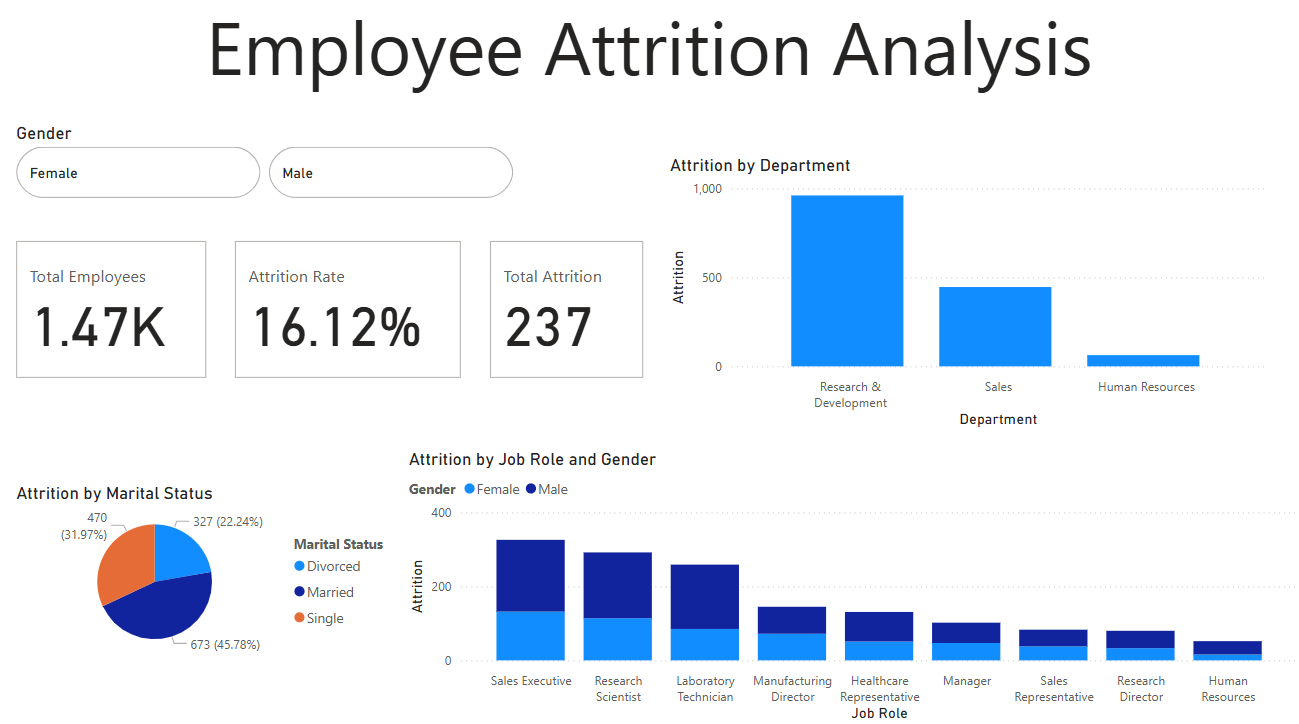

The page's visual inventory and layout, read from the dashboard file:
{"tool":"powerbi","page":{"name":"Employee Attrition Overview – IBM HR Analytics","canvas":[1280,720],"ordinal":0},"visuals":[{"type":"columnChart","title":"Attrition by Department","fields":{"Category":["WA_Fn-UseC_-HR-Employee-Attrition.Department"],"Y":["CountNonNull(WA_Fn-UseC_-HR-Employee-Attrition.Attrition)"]},"box":[656,160,592,272],"z":0},{"type":"cardVisual","fields":{"Data":["WA_Fn-UseC_-HR-Employee-Attrition.Total Attrition"]},"box":[479.5,240,160.5,144],"z":0,"group":"g4"},{"type":"cardVisual","fields":{"Data":["WA_Fn-UseC_-HR-Employee-Attrition.Attrition Rate"]},"box":[229.9,240,231.8,144],"z":1000,"group":"g4"},{"type":"columnChart","title":"Attrition by Job Role and Gender","fields":{"Category":["WA_Fn-UseC_-HR-Employee-Attrition.JobRole"],"Y":["CountNonNull(WA_Fn-UseC_-HR-Employee-Attrition.Attrition)"],"Series":["WA_Fn-UseC_-HR-Employee-Attrition.Gender"]},"box":[416,448,864,272],"z":1000},{"type":"cardVisual","fields":{"Data":["WA_Fn-UseC_-HR-Employee-Attrition.Total Employees"]},"box":[16,240,196.1,144],"z":2000,"group":"g4"},{"type":"pieChart","title":"Attrition by Marital Status","fields":{"Y":["CountNonNull(WA_Fn-UseC_-HR-Employee-Attrition.Attrition)"],"Series":["WA_Fn-UseC_-HR-Employee-Attrition.MaritalStatus"]},"box":[16,544,368,176],"z":2000},{"type":"group","id":"g1","title":"Group 1","box":[16,240,624,144],"z":3000},{"type":"group","id":"g2","title":"Group 2","box":[16,240,624,144],"z":3001,"group":"g1"},{"type":"group","id":"g3","title":"Group 3","box":[16,240,624,144],"z":3001,"group":"g2"},{"type":"group","id":"g4","title":"Group 4","box":[16,240,624,144],"z":3001,"group":"g3"},{"type":"textbox","box":[0,0,1280,112],"z":4000},{"type":"advancedSlicerVisual","fields":{"Values":["WA_Fn-UseC_-HR-Employee-Attrition.Gender"]},"box":[16,128,496,80],"z":5000}]}

Visuals, with their boxes in screenshot pixels (x1, y1, x2, y2), scaled from the page's 1280x720 canvas onto the 1299x724 screenshot:
"Attrition by Department" columnChart: {"x1": 666, "y1": 161, "x2": 1267, "y2": 434}
cardVisual - WA_Fn-UseC_-HR-Employee-Attrition.Total Attrition: {"x1": 487, "y1": 241, "x2": 650, "y2": 386}
cardVisual - WA_Fn-UseC_-HR-Employee-Attrition.Attrition Rate: {"x1": 233, "y1": 241, "x2": 469, "y2": 386}
"Attrition by Job Role and Gender" columnChart: {"x1": 422, "y1": 450, "x2": 1298, "y2": 723}
cardVisual - WA_Fn-UseC_-HR-Employee-Attrition.Total Employees: {"x1": 16, "y1": 241, "x2": 215, "y2": 386}
"Attrition by Marital Status" pieChart: {"x1": 16, "y1": 547, "x2": 390, "y2": 723}
"Group 1" group: {"x1": 16, "y1": 241, "x2": 650, "y2": 386}
"Group 2" group: {"x1": 16, "y1": 241, "x2": 650, "y2": 386}
"Group 3" group: {"x1": 16, "y1": 241, "x2": 650, "y2": 386}
"Group 4" group: {"x1": 16, "y1": 241, "x2": 650, "y2": 386}
textbox: {"x1": 0, "y1": 0, "x2": 1298, "y2": 113}
advancedSlicerVisual - WA_Fn-UseC_-HR-Employee-Attrition.Gender: {"x1": 16, "y1": 129, "x2": 520, "y2": 209}
